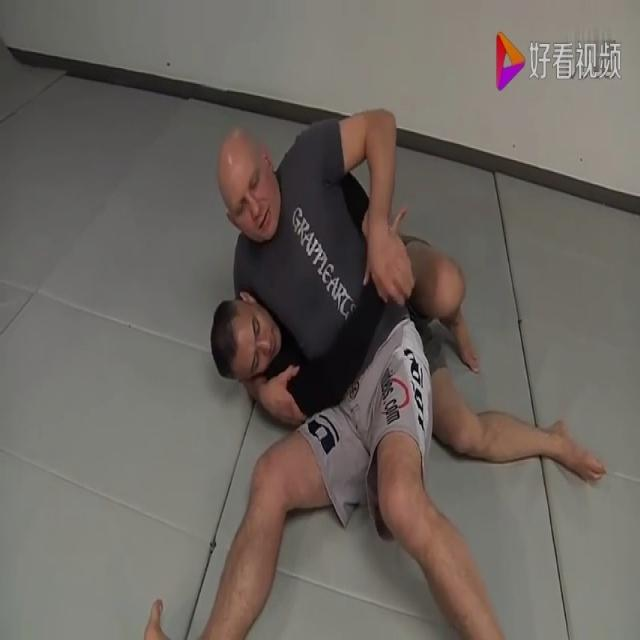fight: (154, 101, 606, 638)
